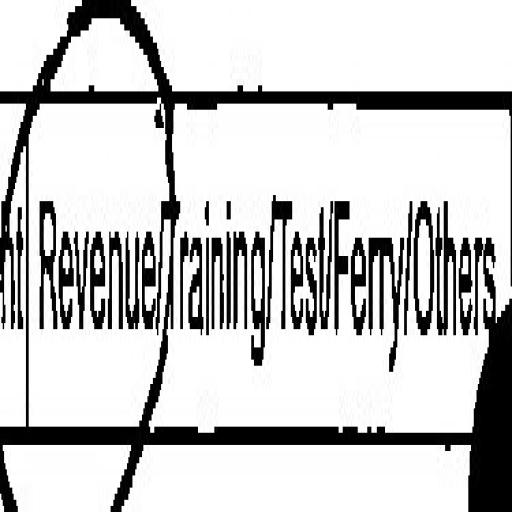check: (26, 0, 165, 512)
